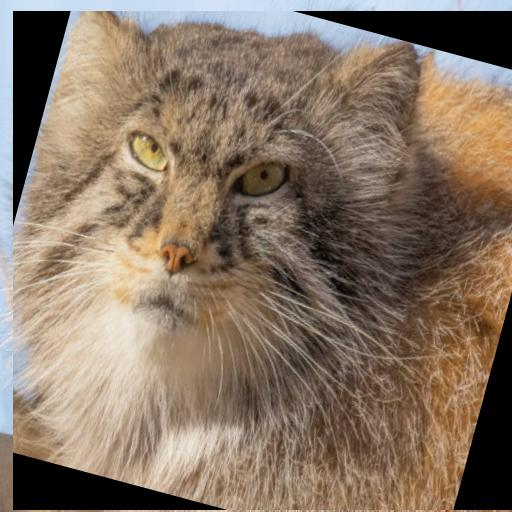manul: (13, 11, 512, 510)
